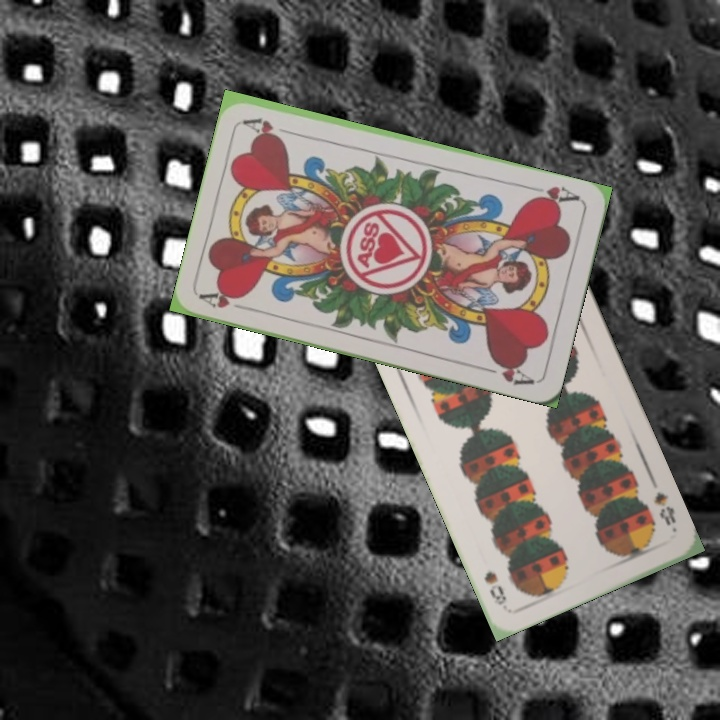HA: (524, 181, 583, 209), (197, 286, 256, 314)
S8: (650, 487, 679, 528)
